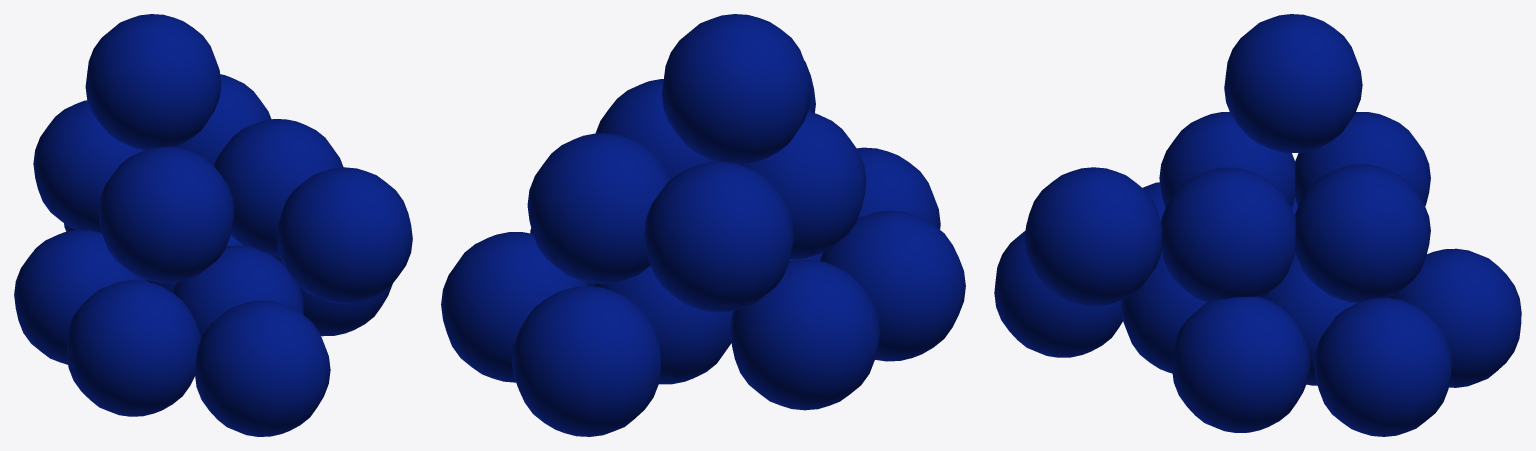
The model's file is FrogEggs.fbx.
3 renders of one model, left to right at view 1: azimuth 30°, elevation 25°; view 2: azimuth 150°, elevation 25°; view 3: azimuth 270°, elevation 25°, orthographic. The views are drawn at different scales.
Visible parts, largest first — view 1: OuterEggEmbryo4, OuterEggEmbryo12, OuterEggEmbryo10, OuterEggEmbryo13, OuterEggEmbryo3, OuterEggEmbryo11, OuterEggEmbryo2, OuterEggEmbryo9, OuterEggEmbryo1, OuterEggEmbryo8, OuterEggEmbryo6; view 2: OuterEggEmbryo7, OuterEggEmbryo9, OuterEggEmbryo13, OuterEggEmbryo2, OuterEggEmbryo8, OuterEggEmbryo3, OuterEggEmbryo5, OuterEggEmbryo10, OuterEggEmbryo, OuterEggEmbryo11, OuterEggEmbryo4; view 3: OuterEggEmbryo12, OuterEggEmbryo13, OuterEggEmbryo5, OuterEggEmbryo6, OuterEggEmbryo8, OuterEggEmbryo11, OuterEggEmbryo7, OuterEggEmbryo4, OuterEggEmbryo10, OuterEggEmbryo9, OuterEggEmbryo1, OuterEggEmbryo.
Part boxes in pixels (x1,y1,x2,y2): OuterEggEmbryo4: (195, 300, 330, 436); OuterEggEmbryo12: (277, 167, 412, 303); OuterEggEmbryo10: (98, 146, 234, 282); OuterEggEmbryo13: (85, 14, 221, 149); OuterEggEmbryo3: (67, 280, 200, 416); OuterEggEmbryo11: (214, 119, 343, 255); OuterEggEmbryo2: (14, 230, 148, 364); OuterEggEmbryo9: (33, 100, 144, 232); OuterEggEmbryo1: (173, 245, 304, 338); OuterEggEmbryo8: (175, 74, 271, 165); OuterEggEmbryo6: (271, 255, 392, 336); OuterEggEmbryo7: (511, 286, 661, 436); OuterEggEmbryo9: (644, 162, 794, 312); OuterEggEmbryo13: (662, 14, 811, 164); OuterEggEmbryo2: (730, 259, 880, 410); OuterEggEmbryo8: (527, 133, 671, 283); OuterEggEmbryo3: (820, 210, 965, 361); OuterEggEmbryo5: (441, 232, 588, 382); OuterEggEmbryo10: (740, 111, 866, 259); OuterEggEmbryo: (594, 266, 733, 384); OuterEggEmbryo11: (595, 79, 715, 178); OuterEggEmbryo4: (857, 147, 940, 229); OuterEggEmbryo12: (1024, 167, 1161, 306); OuterEggEmbryo13: (1224, 14, 1362, 152); OuterEggEmbryo5: (1314, 298, 1452, 436); OuterEggEmbryo6: (1172, 296, 1310, 432); OuterEggEmbryo8: (1294, 164, 1430, 302); OuterEggEmbryo11: (1160, 167, 1295, 302); OuterEggEmbryo7: (1388, 248, 1521, 387); OuterEggEmbryo4: (994, 230, 1122, 357); OuterEggEmbryo10: (1159, 112, 1295, 207); OuterEggEmbryo9: (1295, 112, 1430, 205); OuterEggEmbryo1: (1120, 250, 1206, 373); OuterEggEmbryo: (1262, 251, 1357, 385).
Bounding box in the file's own units: 33.18 × 29.37 × 42.17.
